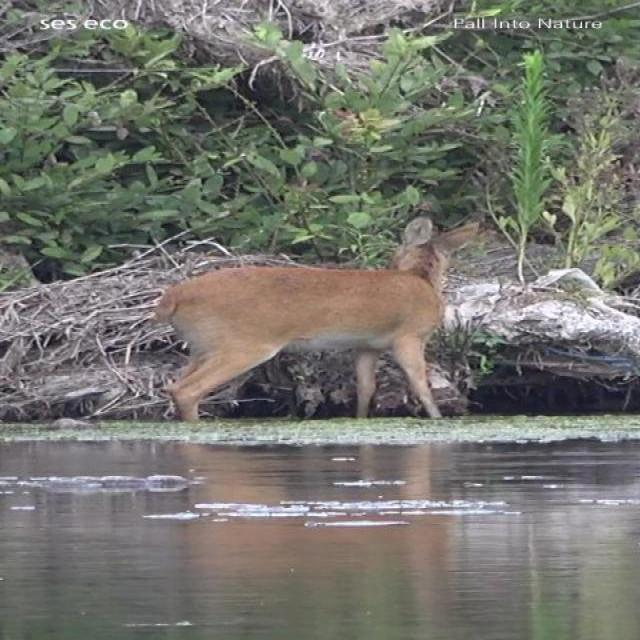deer: (153, 217, 488, 419)
